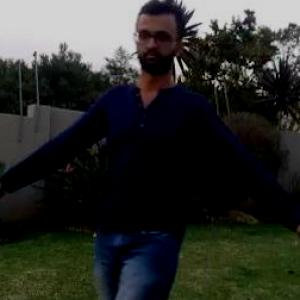land: (18, 31, 294, 299)
